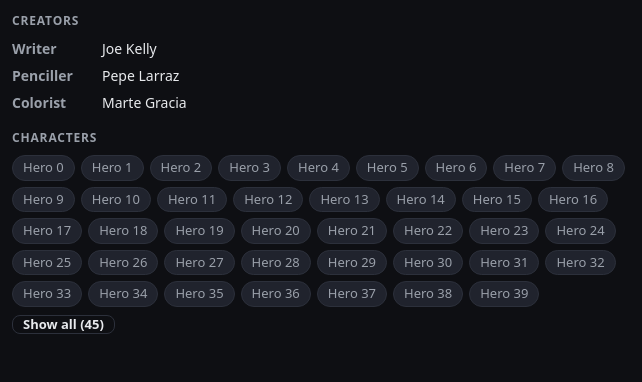
Test: a long cast is held behind one control
The image size is (642, 382).
Expected: the button "Hero 44" is not shown
Click the button "Show all (45)": click(63, 324) [12,314,115,334]
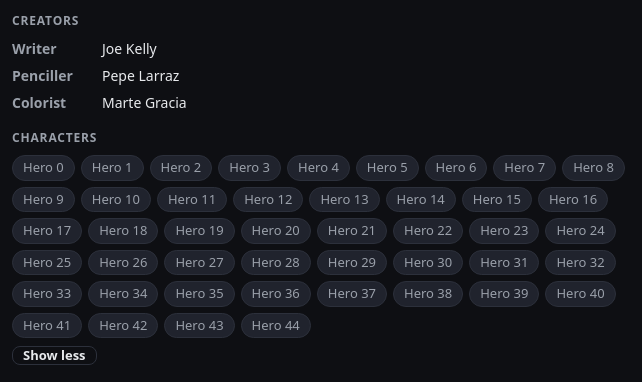
Expected: the button "Hero 44" is shown, [241,312,311,338]
